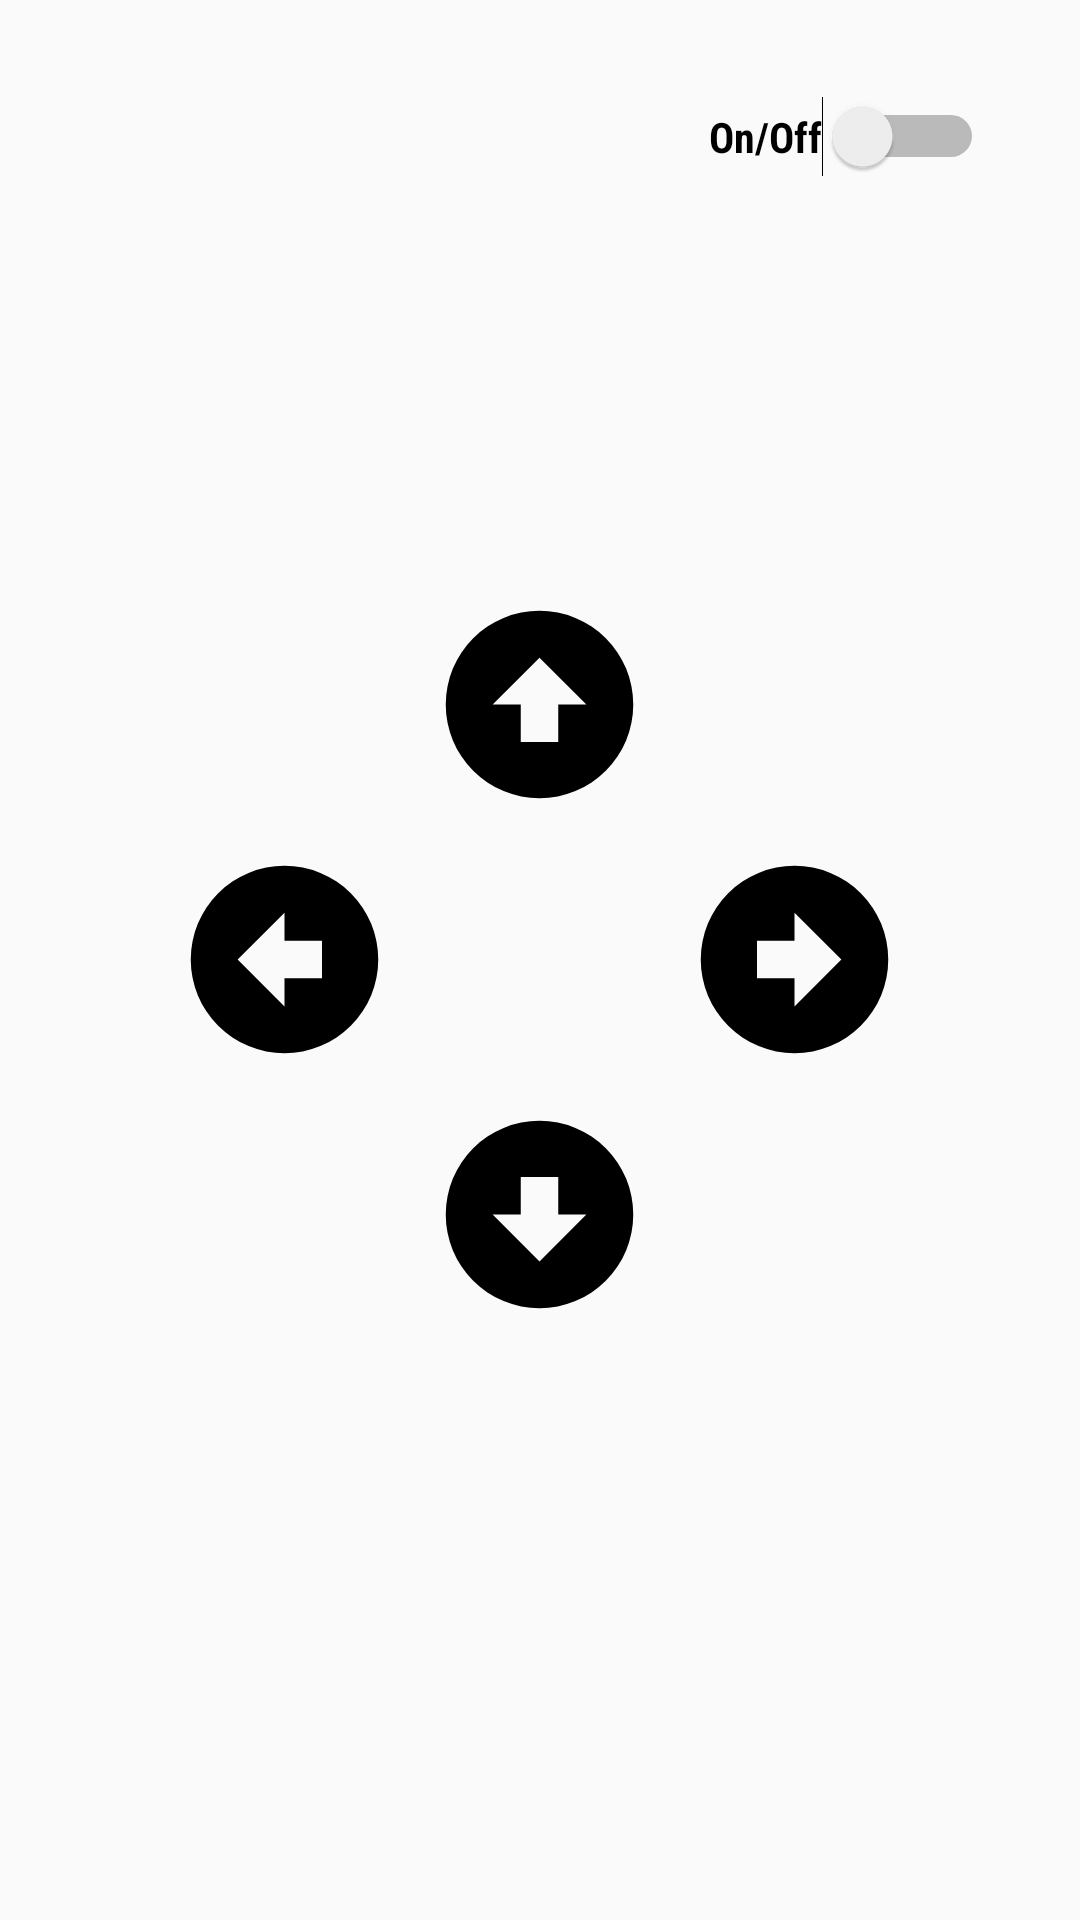

Icon click points for this 1080 x 1920 phone screenshot, format (x,y):
down: (539,1214)
left: (284,959)
right: (794,959)
